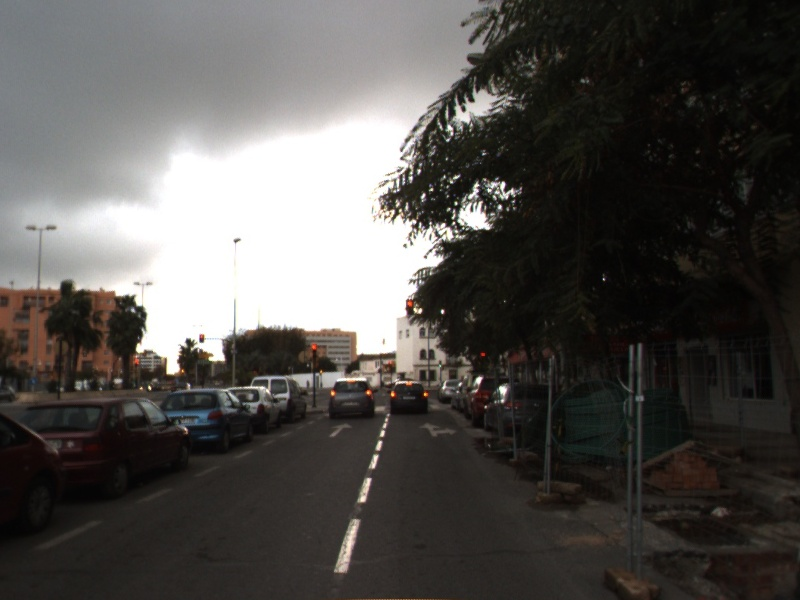STRAIGHT: (327, 421, 354, 439)
STRAIGHT_RIGHT: (417, 420, 459, 438)
